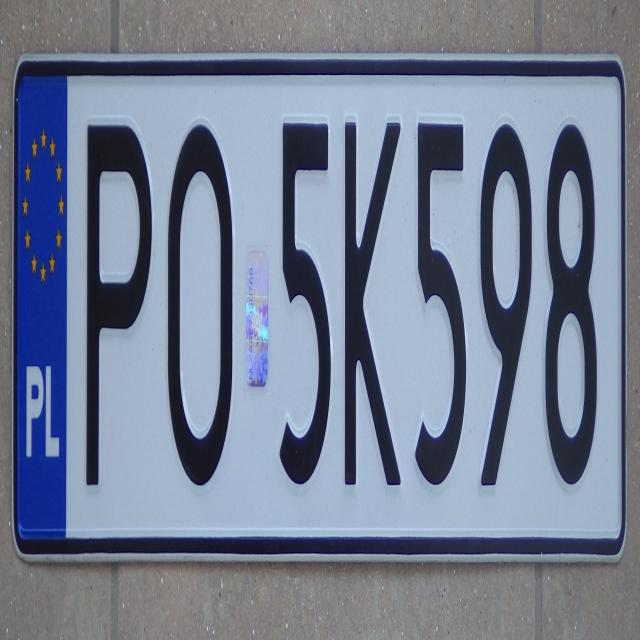pl_license_plate: (17, 66, 625, 536)
